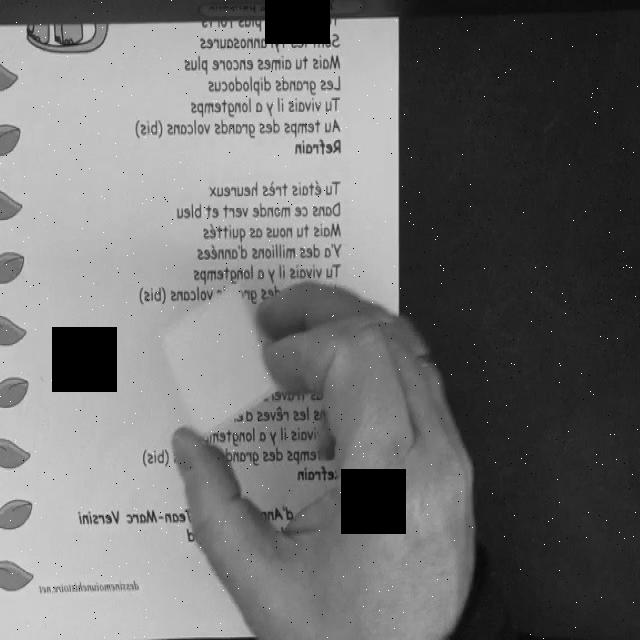square: (158, 282, 276, 441)
